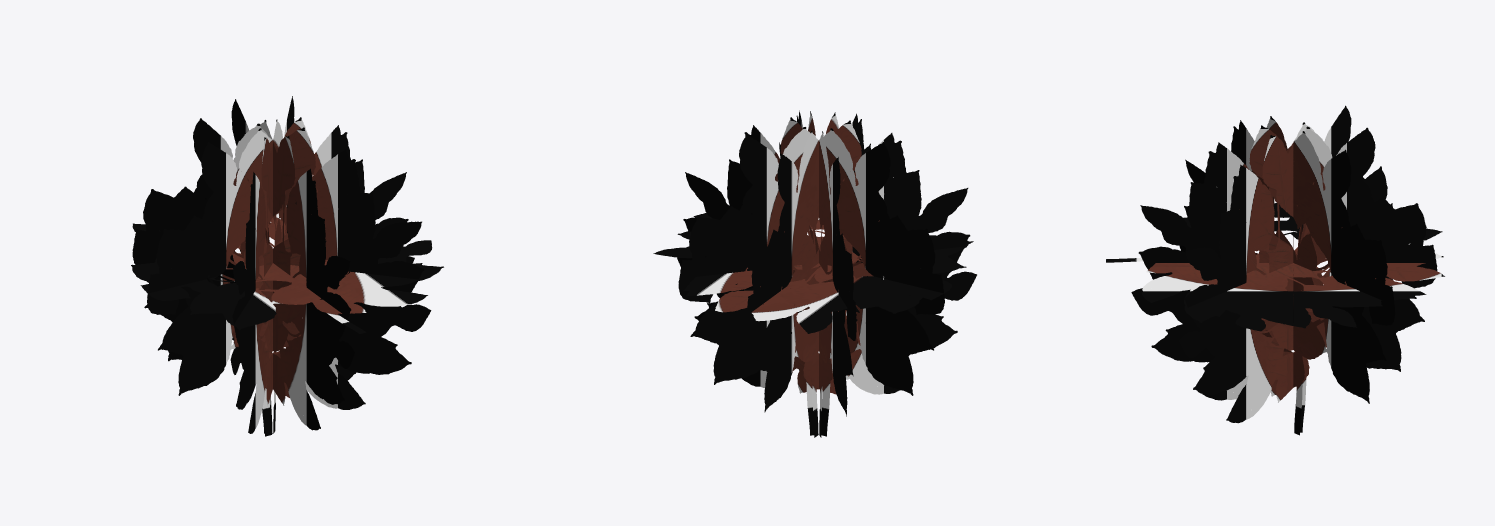
The model's file is SM_TreeLeaves.fbx.
3 views of the same model, side by side, from view 1: azimuth 30°, elevation 25°; view 2: azimuth 150°, elevation 25°; view 3: azimuth 270°, elevation 25° (orthographic).
Visible parts, largest first — view 1: Plane001; view 2: Plane001; view 3: Plane001.
Part boxes in pixels (x1,y1,x2,y2): Plane001: (131, 96, 443, 436); Plane001: (653, 110, 976, 437); Plane001: (1106, 105, 1444, 435).
Bounding box in the file's own units: 78.74 × 78.74 × 78.74.
